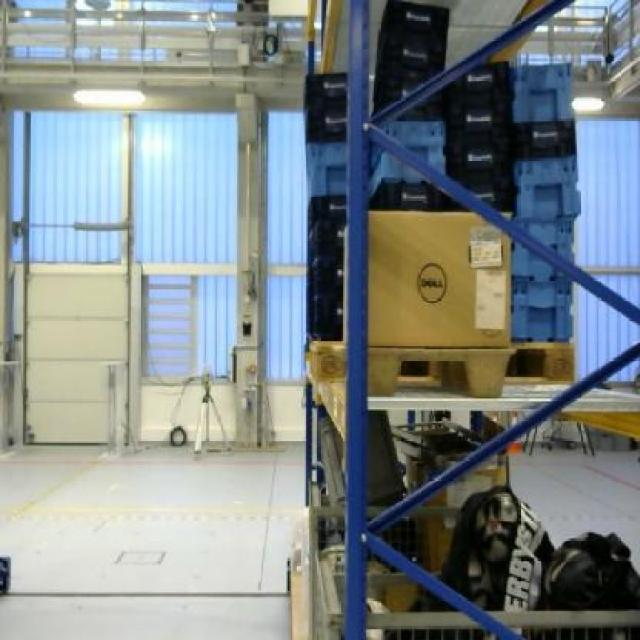box: (368, 209, 510, 349)
